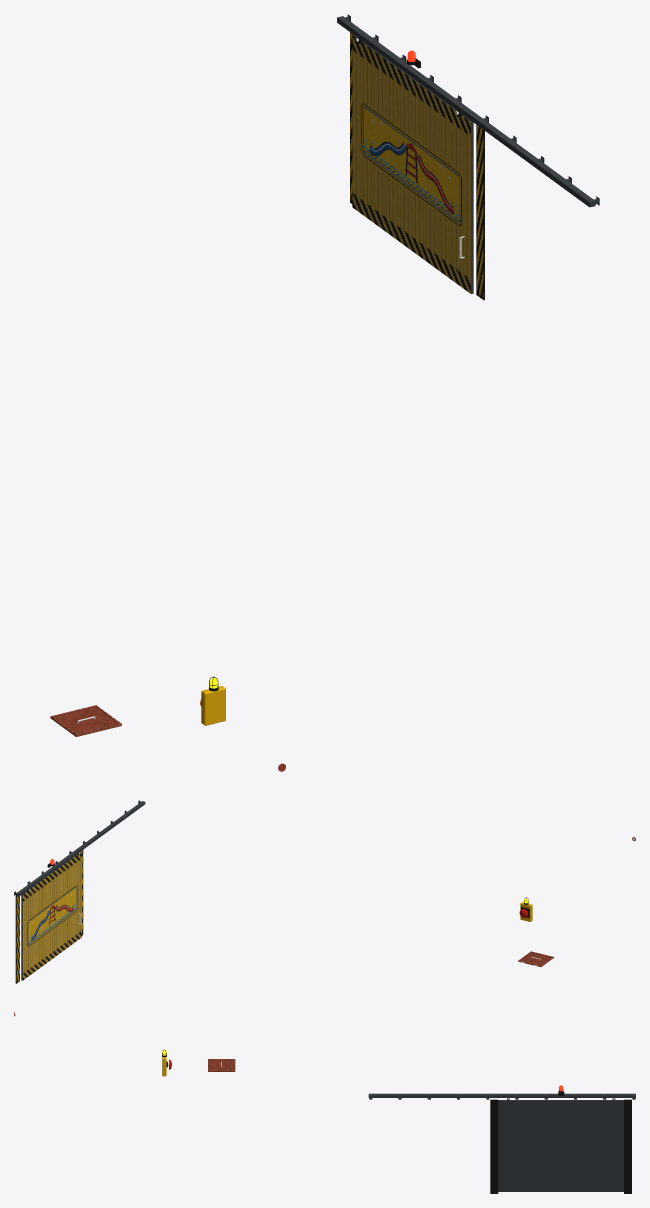
File: sala_interattivi.glb
3 renders of one model, top to bottom at view 1: azimuth 30°, elevation 25°; view 2: azimuth 150°, elevation 25°; view 3: azimuth 270°, elevation 25°, orthographic. The views are drawn at different scales.
Parts seen in each view (by area): view 1: sala_portone_torre, sala_portone_torre_telaio, sala_portello_scarico; view 2: sala_portone_torre, sala_portone_torre_telaio, sala_portello_scarico; view 3: sala_portone_torre, sala_portone_torre_telaio, sala_portello_scarico.
Part boxes in pixels (x1,y1,x2,y2): sala_portone_torre: (352, 35, 473, 293); sala_portone_torre_telaio: (337, 14, 599, 300); sala_portello_scarico: (50, 705, 121, 736); sala_portone_torre: (21, 851, 81, 980); sala_portone_torre_telaio: (14, 800, 145, 983); sala_portello_scarico: (518, 951, 553, 967); sala_portone_torre: (498, 1098, 623, 1191); sala_portone_torre_telaio: (368, 1090, 635, 1193); sala_portello_scarico: (208, 1059, 235, 1071).
Size of what is drawn, in the model's own units: 20.71 by 8.17 by 31.19.
Materials: 11 (5 with a texture image).
